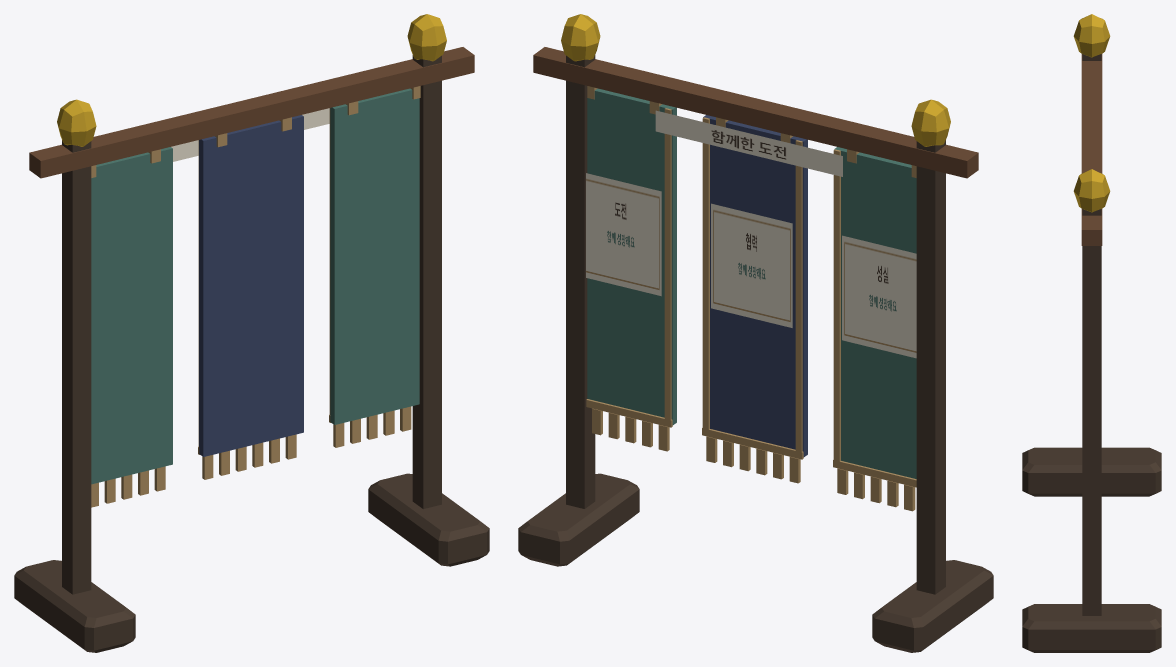
The model's file is A09_Honor_Banner_Stand.fbx.
The picture shows the model from 3 angles, left to right: view 1: azimuth 30°, elevation 25°; view 2: azimuth 150°, elevation 25°; view 3: azimuth 270°, elevation 25°; orthographic projection. The views are drawn at different scales.
Parts seen in each view (by area): view 1: Structure, Banner_02, Banner_03, Banner_01, Title; view 2: Structure, Banner_02, Banner_03, Banner_01, Title; view 3: Structure.
Part boxes in pixels (bbox=[...]): Structure: bbox=[14, 14, 489, 652]; Banner_02: bbox=[198, 115, 303, 479]; Banner_03: bbox=[329, 86, 420, 447]; Banner_01: bbox=[91, 147, 172, 507]; Title: bbox=[171, 108, 329, 161]; Structure: bbox=[518, 14, 993, 652]; Banner_02: bbox=[702, 115, 807, 483]; Banner_03: bbox=[586, 86, 676, 451]; Banner_01: bbox=[833, 147, 916, 511]; Title: bbox=[655, 110, 842, 176]; Structure: bbox=[1022, 14, 1161, 652].
Size of the model in its own units: 2.6 by 3 by 0.8.
7 materials, 1 textured.
